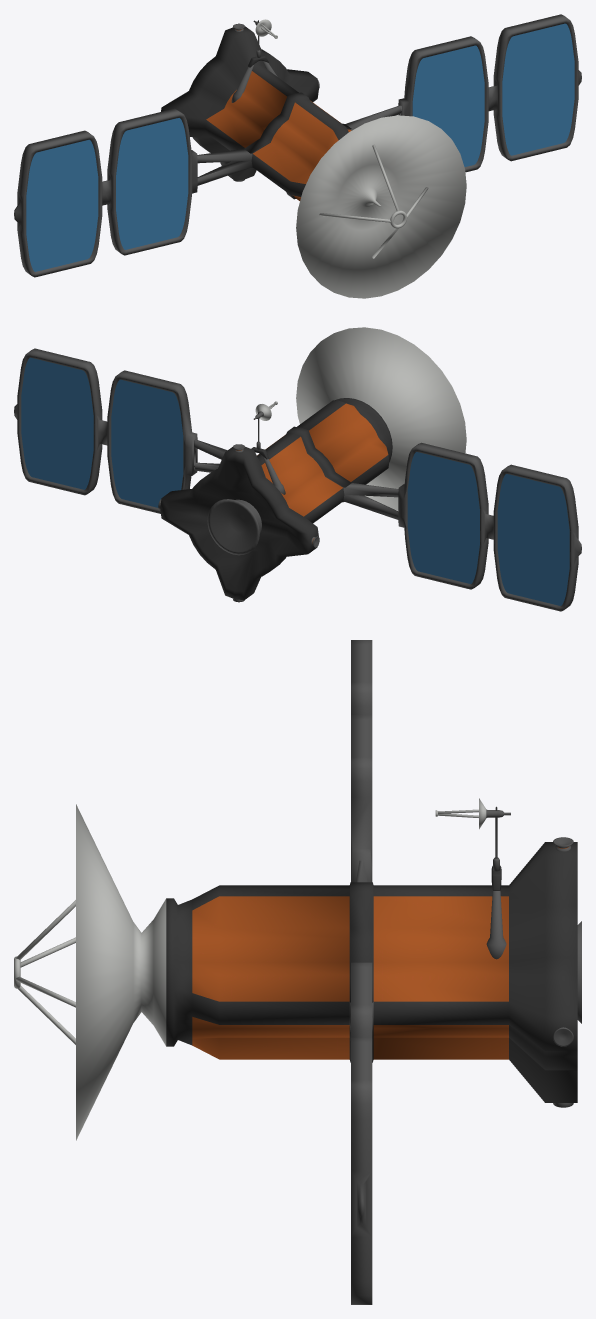
File: satellite-transformed (1).glb
3 views of the same model, one above another, from view 1: azimuth 30°, elevation 25°; view 2: azimuth 150°, elevation 25°; view 3: azimuth 270°, elevation 25° (orthographic). The views are drawn at different scales.
Visible parts, largest first — view 1: Object_2; view 2: Object_2; view 3: Object_2.
Part boxes in pixels (<box>): Object_2: <box>14,14,581,298</box>; Object_2: <box>14,327,581,611</box>; Object_2: <box>14,640,581,1304</box>.
Bounding box in the file's own units: 21.16 × 6.8 × 10.74.
1 material, 1 textured.
